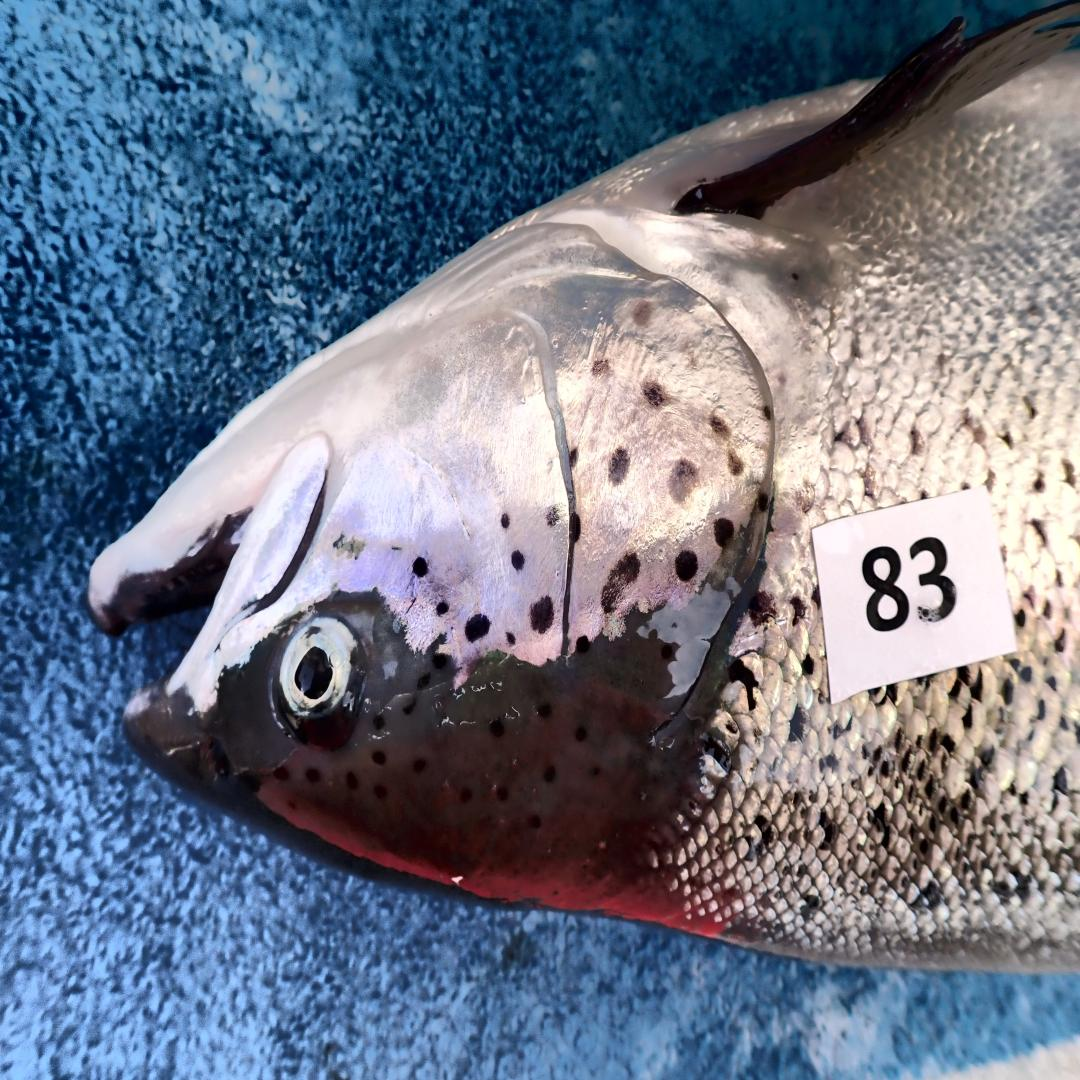spot: (601, 554, 639, 613), (669, 458, 698, 503), (529, 596, 555, 633), (608, 447, 631, 484), (675, 551, 698, 582), (464, 613, 489, 641), (643, 380, 667, 408), (713, 518, 734, 548), (709, 413, 730, 439), (728, 450, 745, 475), (592, 359, 610, 378), (413, 557, 428, 577), (510, 551, 525, 571), (546, 506, 559, 527), (576, 636, 591, 653), (758, 492, 769, 512), (575, 515, 582, 543), (570, 449, 579, 470), (500, 512, 510, 529), (437, 602, 449, 616), (506, 632, 516, 647), (762, 405, 772, 420)
